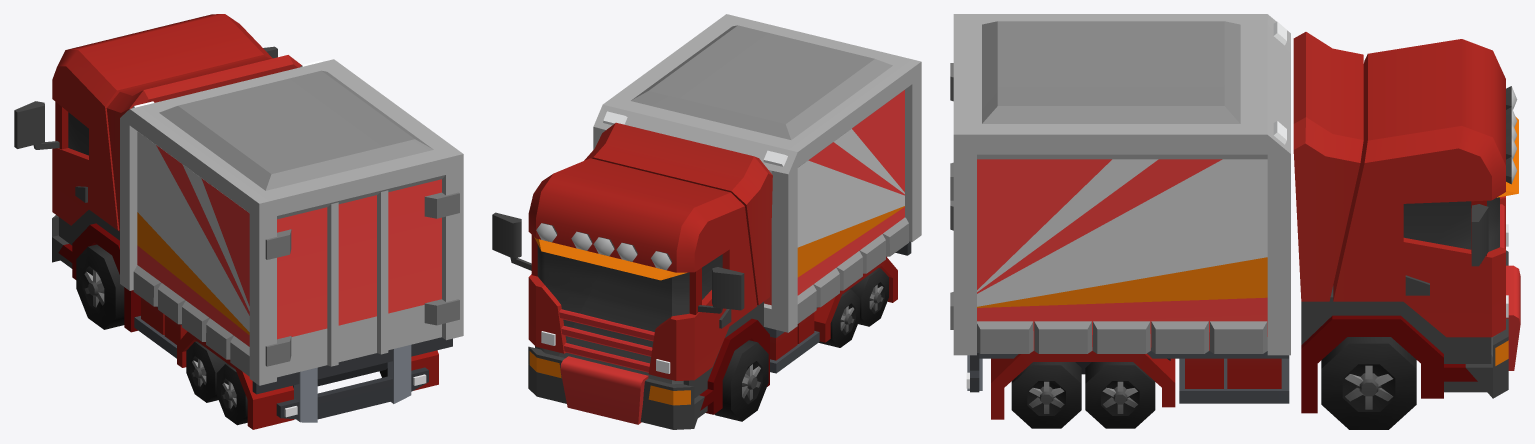
Rendered from Truck_screenshot.fbx.
The picture shows the model from 3 angles, left to right: view 1: azimuth 30°, elevation 25°; view 2: azimuth 150°, elevation 25°; view 3: azimuth 270°, elevation 25°; orthographic projection. The views are drawn at different scales.
Parts seen in each view (by area): view 1: Truck_screenshot; view 2: Truck_screenshot; view 3: Truck_screenshot.
Boxes of the visible parts, x1,y1,x2,y2 form: Truck_screenshot: (14, 14, 463, 429); Truck_screenshot: (492, 14, 921, 429); Truck_screenshot: (950, 14, 1520, 429).
Size of the model in its own units: 3078 by 2896 by 4814.
